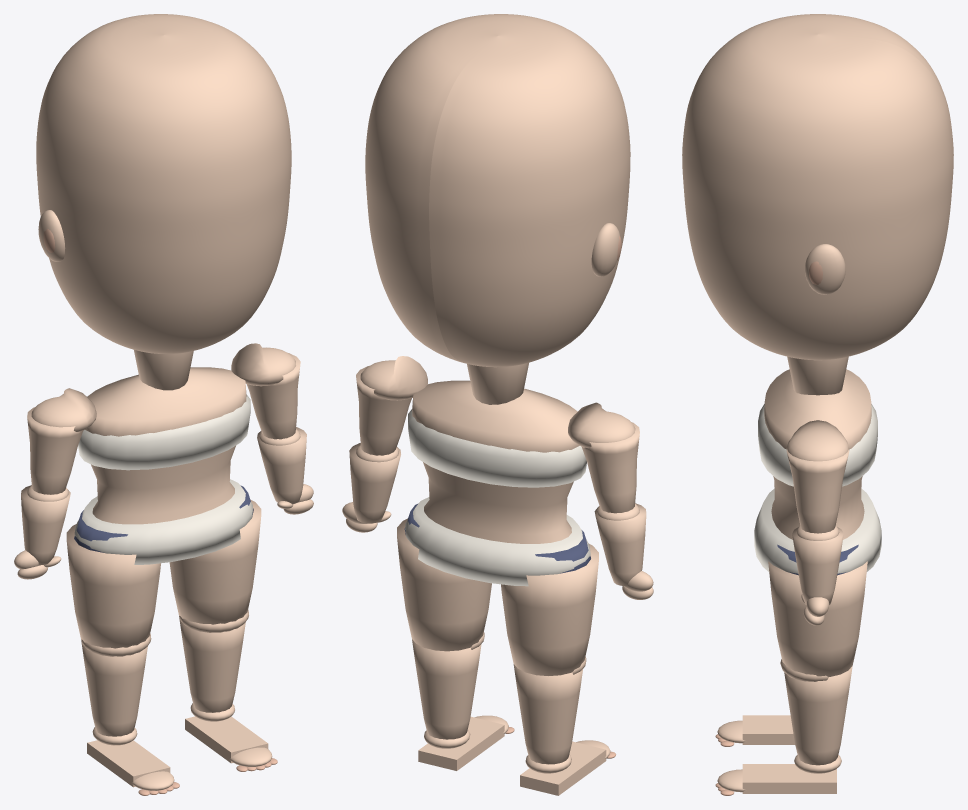
The model's file is body_f.glb.
The picture shows the model from 3 angles, left to right: view 1: azimuth 30°, elevation 25°; view 2: azimuth 150°, elevation 25°; view 3: azimuth 270°, elevation 25°; orthographic projection. The views are drawn at different scales.
Size of the model in its own units: 0.6271 by 1.43 by 0.4838.
